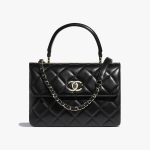channel: (25, 57, 126, 132), (38, 64, 63, 109), (100, 82, 117, 125), (66, 75, 88, 92)
